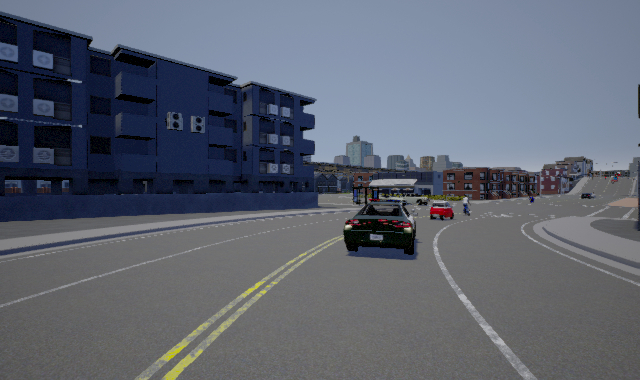bike: (461, 193, 472, 220)
vehicle: (343, 198, 416, 255), (430, 201, 454, 221)
